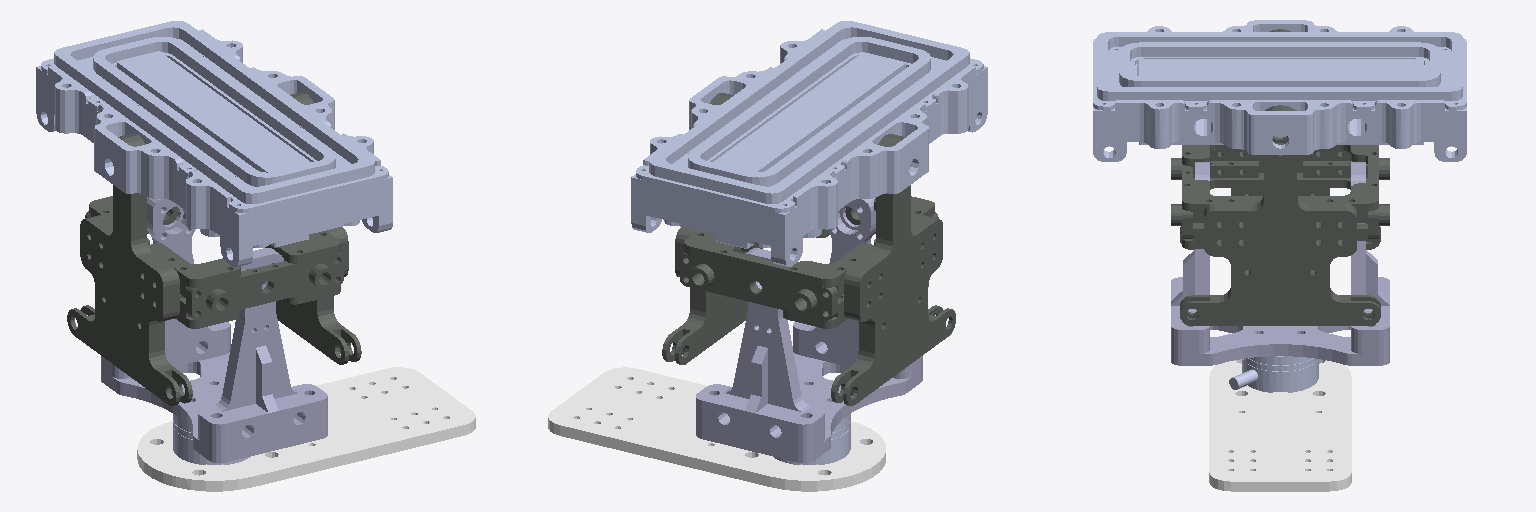
URDF robot description (asm_description):
<?xml version="1.0" encoding="utf-8"?>
<!-- This URDF was automatically created by SolidWorks to URDF Exporter! Originally created by Stephen Brawner (brawner@gmail.com)
     Commit Version: 1.6.0-4-g7f85cfe  Build Version: 1.6.7995.38578
     For more information, please see http://wiki.ros.org/sw_urdf_exporter -->
<robot name="asm_description">
  <link name="world"/>
  <joint name="world_to_base_link" type="fixed">
    <origin xyz="0 0 0" rpy="0 0 0"/>
    <parent link="world"/>
    <child link="base_link"/>
  </joint>

  <link name="base_link">
    <inertial>
      <origin xyz="0.043666 6.6613E-16 0.0025" rpy="0 0 0"/>
      <mass value="0.043002"/>
      <inertia ixx="1.4601E-05" ixy="-1.0055E-18" ixz="-2.5272E-21" iyy="6.817E-05" iyz="1.4737E-22" izz="8.2592E-05"/>
    </inertial>
    <visual>
      <origin xyz="0 0 0" rpy="0 0 0"/>
      <geometry>
        <mesh filename="package://asm_description/meshes/base_link.STL"/>
      </geometry>
      <material name="base_link_material">
        <color rgba="1 1 1 1"/>
      </material>
    </visual>
    <collision>
      <origin xyz="0 0 0" rpy="0 0 0"/>
      <geometry>
        <mesh filename="package://asm_description/meshes/base_link.STL"/>
      </geometry>
    </collision>
  </link>

  <link name="force_sensor_link">
    <inertial>
      <origin xyz="-0.00034904 0.00034904 -6.9694E-05" rpy="0 0 0"/>
      <mass value="0.01707"/>
      <inertia ixx="1.9259E-06" ixy="9.9778E-08" ixz="-1.7458E-08" iyy="1.9259E-06" iyz="1.7458E-08" izz="2.8862E-06"/>
    </inertial>
    <visual>
      <origin xyz="0 0 0" rpy="0 0 0"/>
      <geometry>
        <mesh filename="package://asm_description/meshes/force_sensor_link.STL"/>
      </geometry>
      <material name="force_sensor_material">
        <color rgba="0.79216 0.81961 0.93333 1"/>
      </material>
    </visual>
    <collision>
      <origin xyz="0 0 0" rpy="0 0 0"/>
      <geometry>
        <mesh filename="package://asm_description/meshes/force_sensor_link.STL"/>
      </geometry>
    </collision>
  </link>

  <joint name="force_sensor_joint" type="fixed">
    <origin xyz="0 0 0.0145" rpy="0 0 -3.1416"/>
    <parent link="base_link"/>
    <child link="force_sensor_link"/>
    <axis xyz="0 0 0"/>
    <limit lower="-3.1416" upper="3.1416" effort="20" velocity="0.5"/>
    <dynamics damping="10" friction="10"/>
  </joint>

  <link name="tool_base_link">
    <inertial>
      <origin xyz="3.1503E-15 0 0.01886" rpy="0 0 0"/>
      <mass value="0.065358"/>
      <inertia ixx="4.3832E-05" ixy="-3.1683E-20" ixz="-1.6598E-21" iyy="3.1672E-05" iyz="2.7529E-21" izz="3.6046E-05"/>
    </inertial>
    <visual>
      <origin xyz="0 0 0" rpy="0 0 0"/>
      <geometry>
        <mesh filename="package://asm_description/meshes/tool_base_link.STL"/>
      </geometry>
      <material name="tool_base_material">
        <color rgba="0.72216 0.71961 0.83333 1"/>
      </material>
    </visual>
    <collision>
      <origin xyz="0 0 0" rpy="0 0 0"/>
      <geometry>
        <mesh filename="package://asm_description/meshes/tool_base_link.STL"/>
      </geometry>
    </collision>
  </link>

  <joint name="tool_base_joint" type="fixed">
    <origin xyz="0 0 0.0095" rpy="0 0 3.1416"/>
    <parent link="force_sensor_link"/>
    <child link="tool_base_link"/>
    <axis xyz="0 0 0"/>
    <limit lower="-3.1416" upper="3.1416" effort="20" velocity="0.5"/>
    <dynamics damping="10" friction="10"/>
  </joint>

  <link name="tool_link1">
    <inertial>
      <origin xyz="-0.00057962 -0.00051221 -0.0055231" rpy="0 0 0"/>
      <mass value="0.099171"/>
      <inertia ixx="6.8128E-05" ixy="-8.4374E-08" ixz="3.0296E-14" iyy="5.472E-05" iyz="4.5685E-12" izz="3.1648E-05"/>
    </inertial>
    <visual>
      <origin xyz="0 0 0" rpy="0 0 0"/>
      <geometry>
        <mesh filename="package://asm_description/meshes/tool_link1.STL"/>
      </geometry>
      <material name="tool_link1_material">
        <color rgba="0.43137 0.45098 0.43137 1"/>
      </material>
    </visual>
    <collision>
      <origin xyz="0 0 0" rpy="0 0 0"/>
      <geometry>
        <mesh filename="package://asm_description/meshes/tool_link1.STL"/>
      </geometry>
    </collision>
  </link>

  <joint name="tool_joint1" type="revolute">
    <origin xyz="0 0 0.074" rpy="0 0 0"/>
    <parent link="tool_base_link"/>
    <child link="tool_link1"/>
    <axis xyz="0 -1 0"/>
    <limit lower="-0.1500" upper="0.1500" effort="20" velocity="0.5"/>
    <dynamics damping="10" friction="10"/>
  </joint>

  <link name="tool_link2">
    <inertial>
      <origin xyz="-0.00023235 0.0001851 -0.0026657" rpy="0 0 0"/>
      <mass value="0.31471"/>
      <inertia ixx="0.00076298" ixy="4.0202E-07" ixz="-5.4052E-08" iyy="0.00023426" iyz="1.1979E-05" izz="0.00082144"/>
    </inertial>
    <visual>
      <origin xyz="0 0 0" rpy="0 0 0"/>
      <geometry>
        <mesh filename="package://asm_description/meshes/tool_link2.STL"/>
      </geometry>
      <material name="tool_link2_material">
        <color rgba="0.79216 0.81961 0.93333 1"/>
      </material>
    </visual>
    <collision>
      <origin xyz="0 0 0" rpy="0 0 0"/>
      <geometry>
        <mesh filename="package://asm_description/meshes/tool_link2.STL"/>
      </geometry>
    </collision>
  </link>

  <joint name="tool_joint2" type="revolute">
    <origin xyz="0 0 0.0495" rpy="0 0 0"/>
    <parent link="tool_link1"/>
    <child link="tool_link2"/>
    <axis xyz="1 0 0"/>
    <limit lower="-0.3000" upper="0.3000" effort="20" velocity="0.5"/>
    <dynamics damping="10" friction="10"/>
  </joint>

  <link name="camera_link">
    <inertial>
      <origin xyz="0 0 0" rpy="0 0 0"/>
      <mass value="0"/>
      <inertia ixx="0" ixy="0" ixz="0" iyy="0" iyz="0" izz="0"/>
    </inertial>
    <visual>
      <origin xyz="0 0 0" rpy="0 0 0"/>
      <geometry>
        <mesh filename="package://asm_description/meshes/camera_link.STL"/>
      </geometry>
      <material name="camera_material">
        <color rgba="0.9 0.9 0.9 1"/>
      </material>
    </visual>
    <collision>
      <origin xyz="0 0 0" rpy="0 0 0"/>
      <geometry>
        <mesh filename="package://asm_description/meshes/camera_link.STL"/>
      </geometry>
    </collision>
  </link>

  <joint name="camera_joint" type="fixed">
    <origin xyz="0.1 -0.0011863 0.005" rpy="0 0 0"/>
    <parent link="base_link"/>
    <child link="camera_link"/>
    <axis xyz="0 0 0"/>
  </joint>
</robot>

--- Facts derived from the render (not from the file) ---
The picture shows the robot from 3 angles, left to right: view 1: azimuth 30°, elevation 25°; view 2: azimuth 150°, elevation 25°; view 3: azimuth 270°, elevation 25°; orthographic projection.
Robot: asm_description — 7 links, 6 joints (2 revolute, 4 fixed); root link world; default pose: all joints at 0.
Visible links, largest first — view 1: tool_link2, tool_link1, tool_base_link, base_link, force_sensor_link; view 2: tool_link2, tool_link1, tool_base_link, base_link, force_sensor_link; view 3: tool_link2, tool_link1, base_link, tool_base_link, force_sensor_link.
Link boxes in pixels (x1,y1,x2,y2): tool_link2: (36,21,392,266); tool_link1: (67,92,361,405); tool_base_link: (101,197,327,462); base_link: (137,367,475,491); force_sensor_link: (173,414,249,464); tool_link2: (631,21,987,266); tool_link1: (662,93,955,405); tool_base_link: (696,198,922,462); base_link: (548,367,885,491); force_sensor_link: (774,414,850,464); tool_link2: (1093,20,1466,161); tool_link1: (1171,29,1389,325); base_link: (1209,359,1351,491); tool_base_link: (1171,162,1389,365); force_sensor_link: (1229,356,1318,392).
Size in the robot's own frame: 0.1635 by 0.1705 by 0.1635 metres.
5 mesh visuals loaded from 6 distinct referenced files (5 binary STL); not drawn: 1 (reference not matched to a file when rendering).
